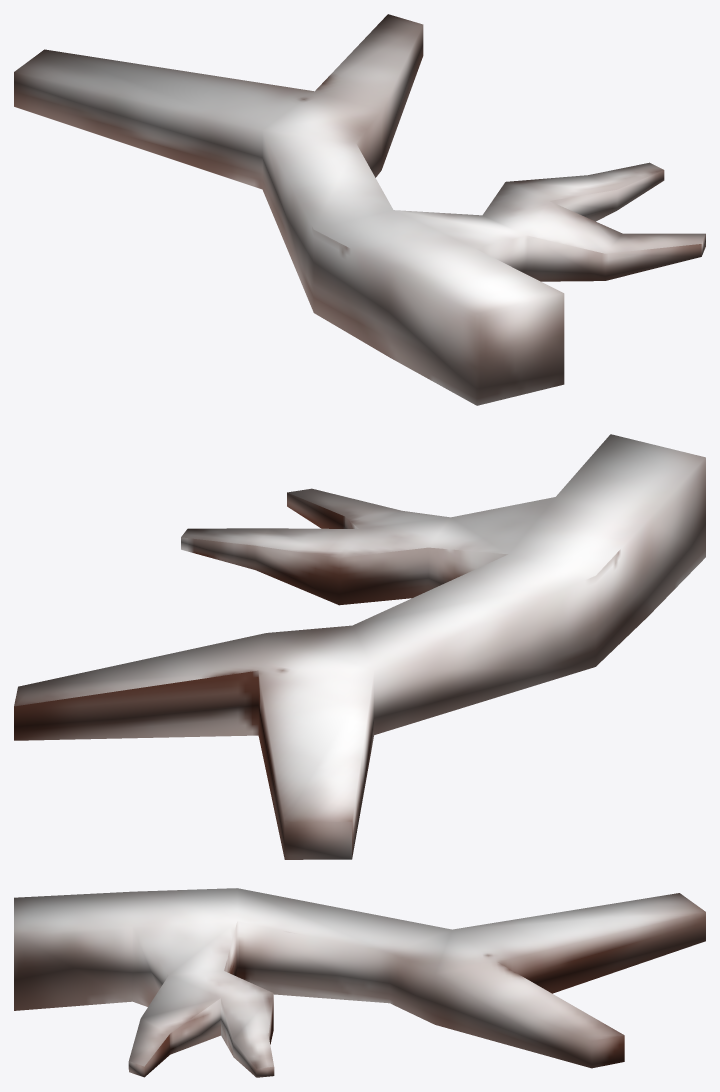
File: SmallStick.fbx
The picture shows the model from 3 angles, top to bottom: view 1: azimuth 30°, elevation 25°; view 2: azimuth 150°, elevation 25°; view 3: azimuth 270°, elevation 25°; orthographic projection. The views are drawn at different scales.
Visible parts, largest first — view 1: Cube.002; view 2: Cube.002; view 3: Cube.002.
Part boxes in pixels (bbox=[...]): Cube.002: bbox=[14, 14, 705, 405]; Cube.002: bbox=[14, 434, 705, 859]; Cube.002: bbox=[14, 888, 705, 1077].
Bounding box in the file's own units: 90.63 × 19.75 × 160.
